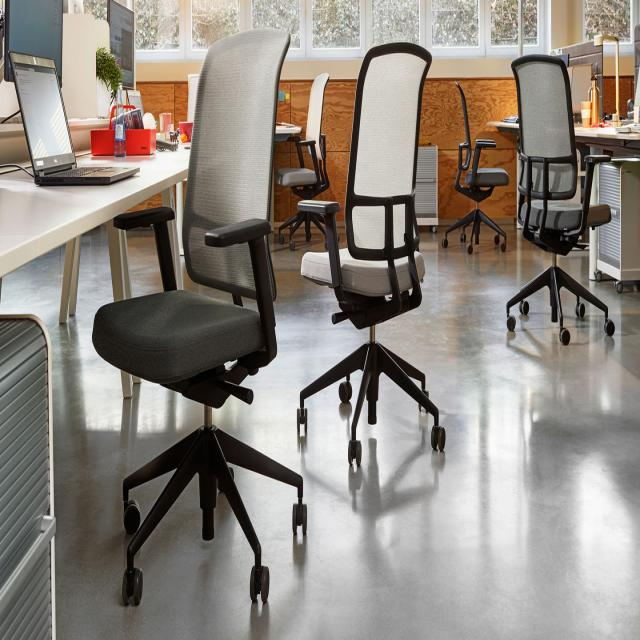chair: (74, 18, 311, 640), (280, 28, 458, 507), (496, 43, 628, 382), (432, 61, 520, 294), (255, 64, 345, 260)
